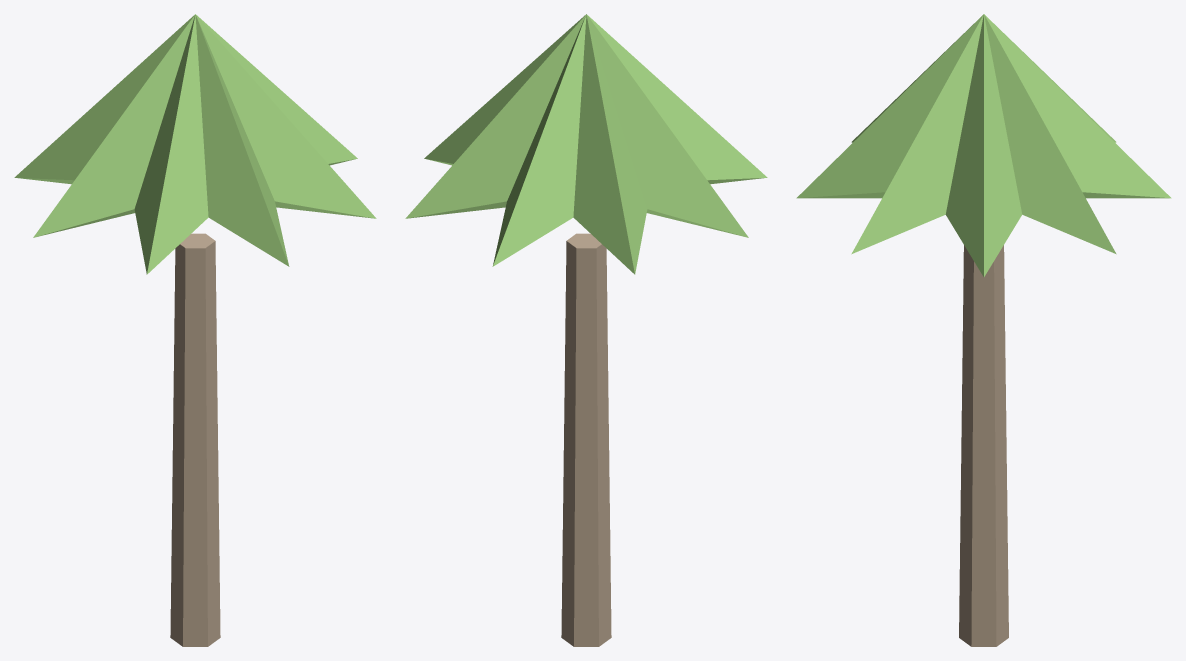
File: SubstitutionAsset_Tree_TropicalPalm.fbx
The picture shows the model from 3 angles, left to right: view 1: azimuth 30°, elevation 25°; view 2: azimuth 150°, elevation 25°; view 3: azimuth 270°, elevation 25°; orthographic projection.
Parts seen in each view (by area): view 1: FR_SUB_SubstitutionAsset_Tree_TropicalPalm; view 2: FR_SUB_SubstitutionAsset_Tree_TropicalPalm; view 3: FR_SUB_SubstitutionAsset_Tree_TropicalPalm.
Boxes of the visible parts, <box> form: FR_SUB_SubstitutionAsset_Tree_TropicalPalm: <box>14,14,376,646</box>; FR_SUB_SubstitutionAsset_Tree_TropicalPalm: <box>405,14,767,646</box>; FR_SUB_SubstitutionAsset_Tree_TropicalPalm: <box>796,14,1171,646</box>.
Bounding box in the file's own units: 120 × 120 × 220.
